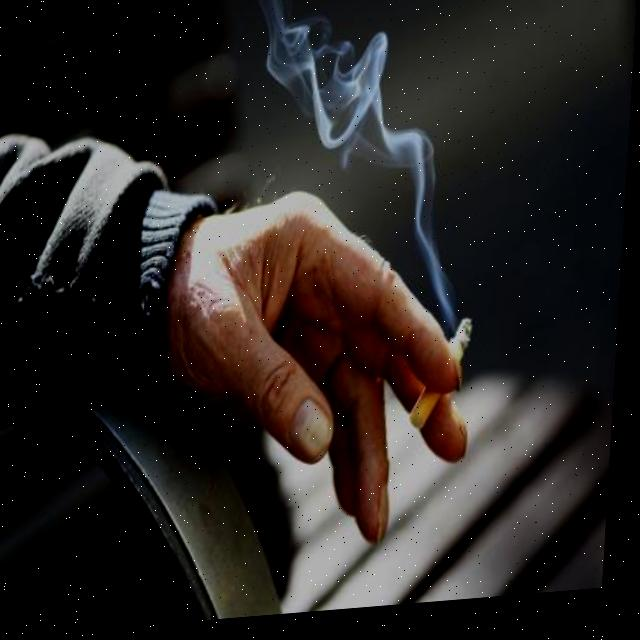cigarette: (415, 323, 480, 441)
